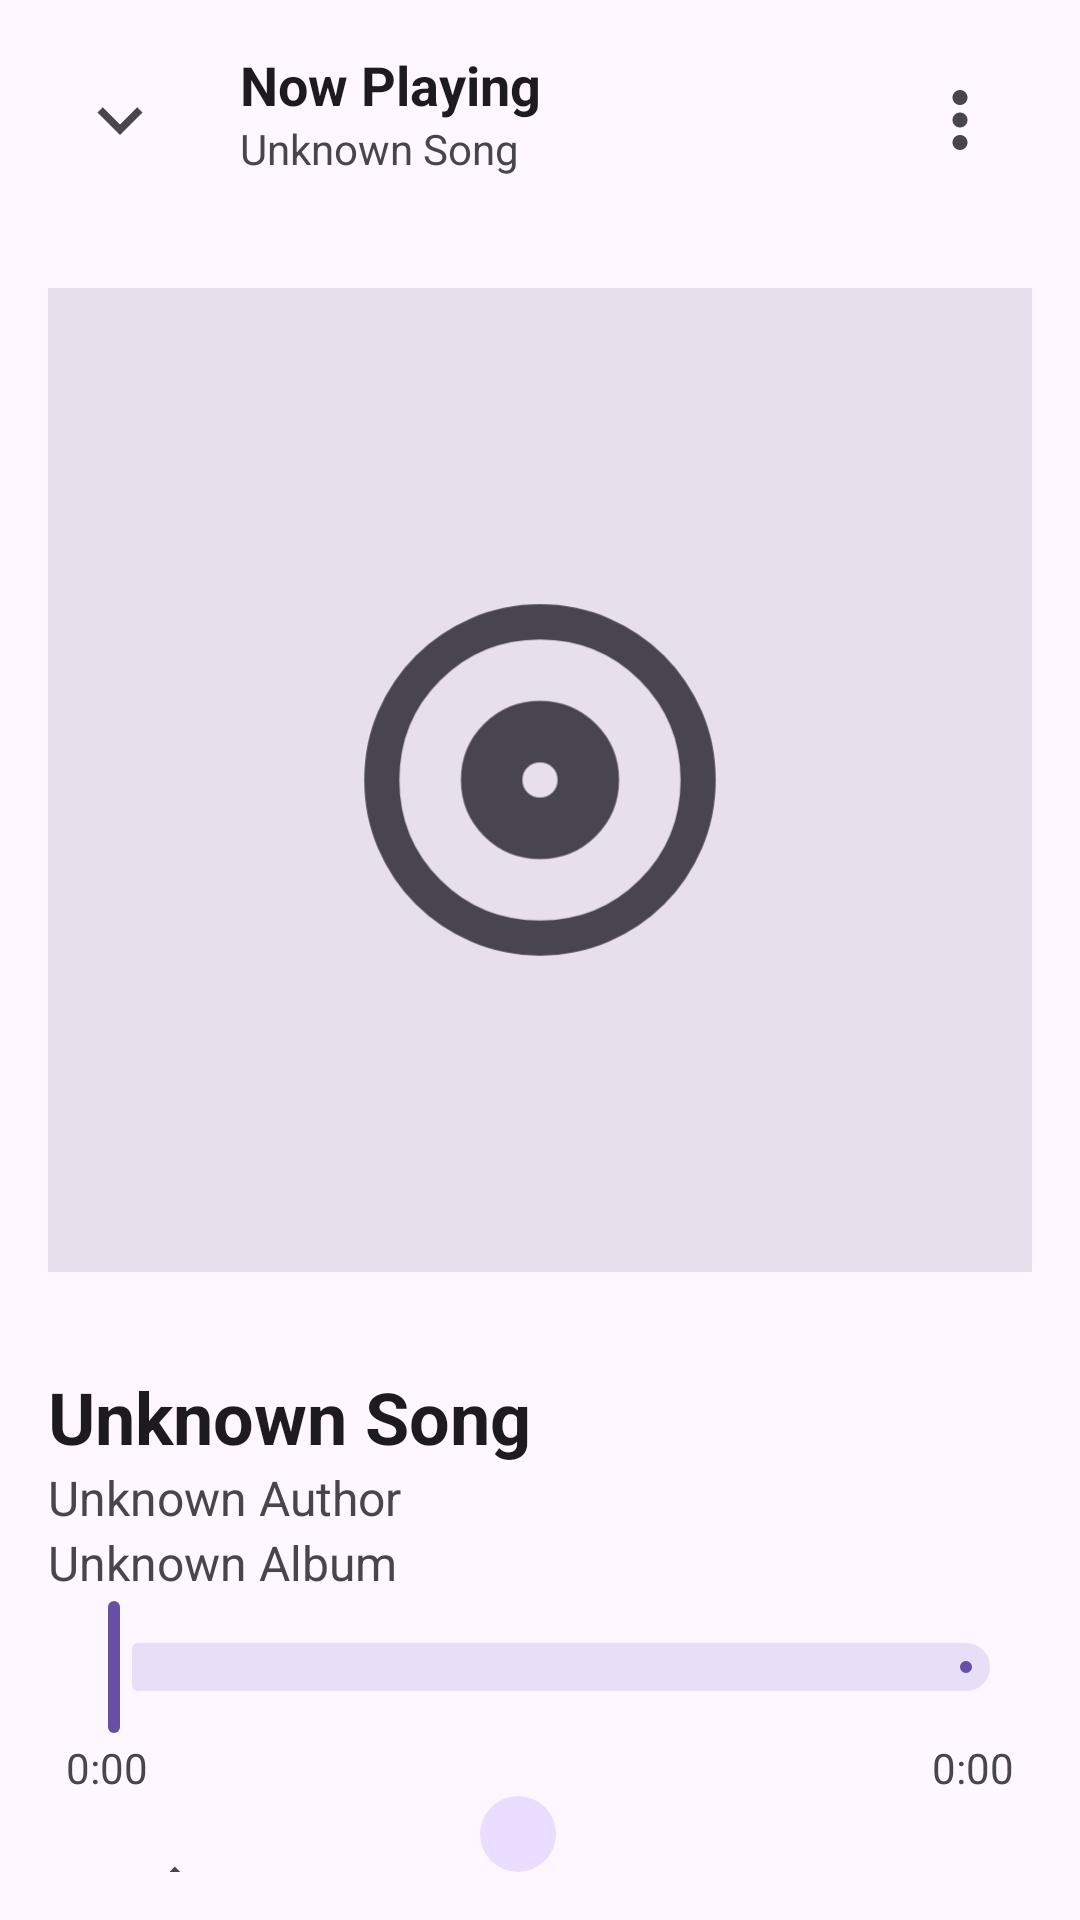

Screen size 1080w x 1920h. Icon name, then its center in pixels as point (x, y):
arrow down: point (120, 121)
more vert: point (960, 120)
